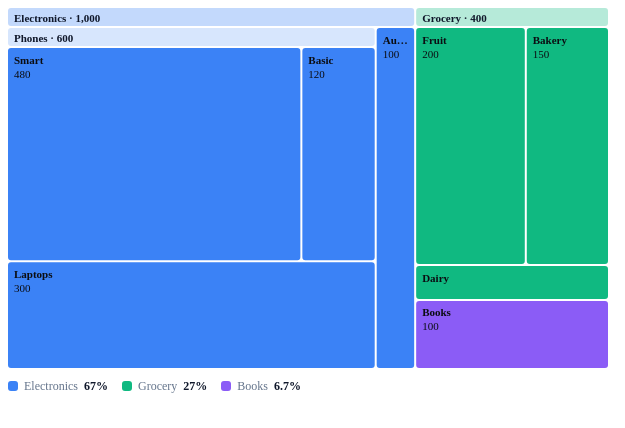
TreemapChart controlled drill-down › round-trips through state, and drilldown={false} turns it off
Later steps or results of the test are not shown.
Click the icon with class "jc-surface": {"x": 308, "y": 188} [8,8,608,368]
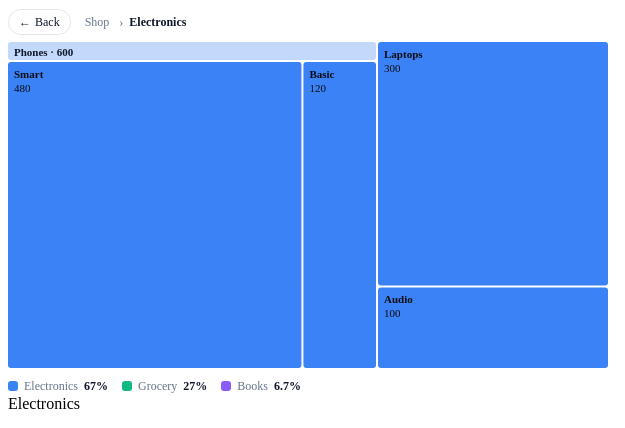
Result: the text with test id "path" reads "Electronics" at [8,395,80,412]
